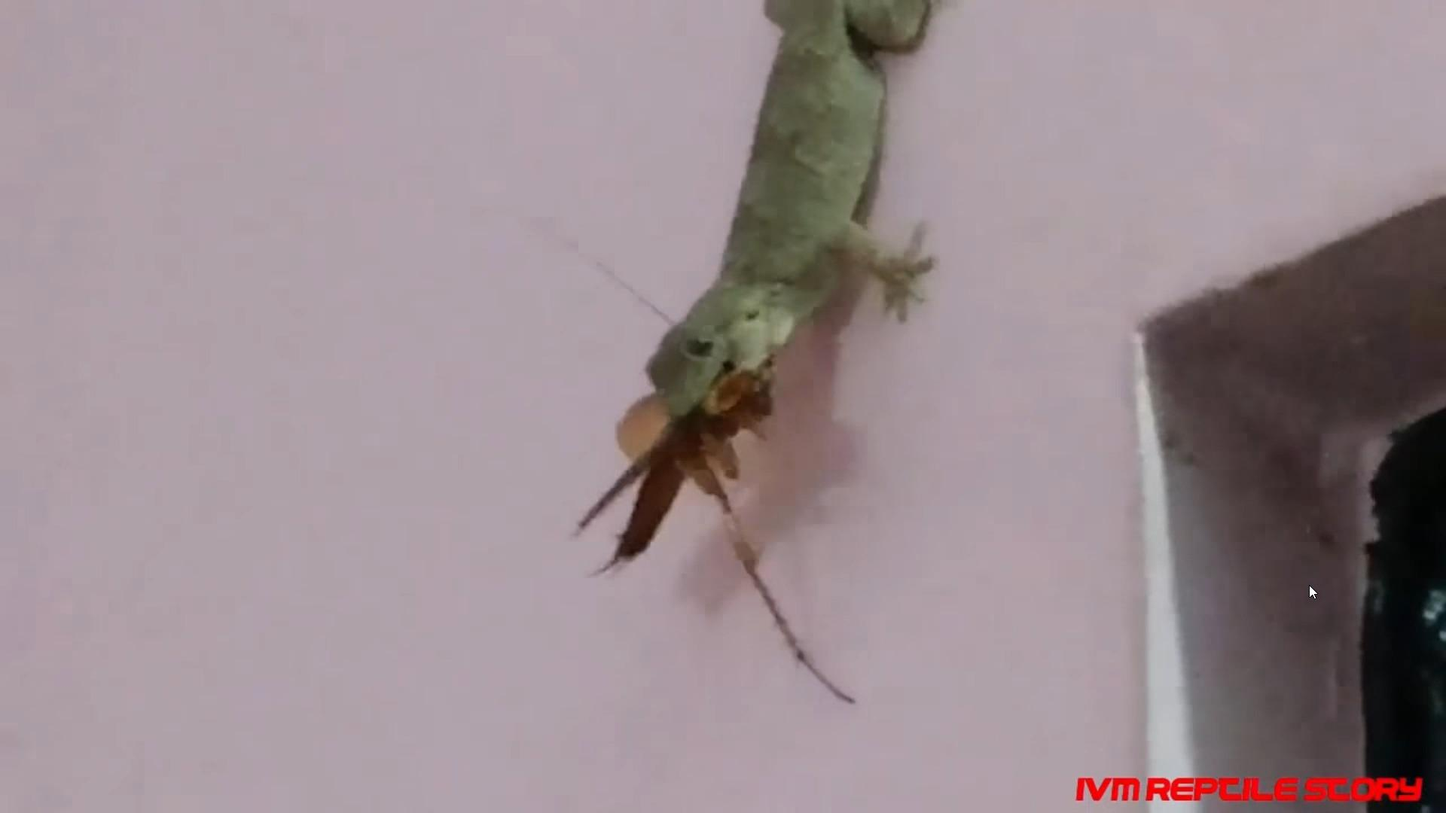cockroach: (606, 380, 785, 616)
lizard: (623, 38, 934, 424)
